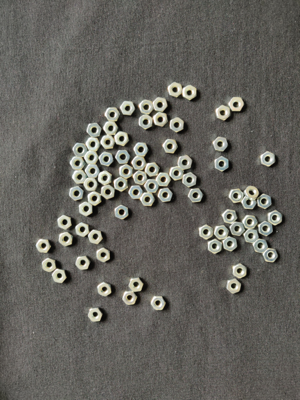nut: (257, 194, 273, 210), (226, 279, 242, 295), (88, 229, 104, 245), (168, 82, 183, 98), (139, 100, 155, 115), (120, 101, 136, 116), (153, 112, 169, 127), (170, 117, 185, 133), (213, 137, 229, 152), (163, 139, 179, 154), (261, 151, 276, 167), (215, 156, 230, 172), (178, 155, 193, 171), (145, 162, 160, 178), (158, 188, 174, 203), (114, 177, 129, 193), (244, 186, 260, 201), (229, 189, 245, 204), (268, 210, 283, 226), (222, 209, 238, 224), (242, 215, 258, 230), (258, 221, 273, 237), (214, 225, 230, 240), (253, 239, 269, 254), (263, 248, 279, 263), (75, 222, 90, 238), (36, 239, 52, 254), (151, 296, 167, 311), (216, 106, 231, 121), (153, 97, 168, 112), (87, 123, 102, 138), (101, 135, 116, 150), (73, 143, 88, 158), (99, 152, 114, 167), (133, 171, 148, 186), (98, 171, 113, 186), (69, 186, 84, 201), (244, 229, 259, 244), (223, 237, 238, 252), (233, 264, 248, 279), (59, 232, 74, 247), (42, 258, 57, 273), (52, 269, 67, 284), (88, 308, 103, 323), (229, 98, 245, 112), (183, 85, 197, 101), (105, 108, 121, 122), (115, 131, 129, 147), (70, 157, 86, 171), (183, 172, 197, 188), (188, 189, 204, 203), (156, 173, 172, 187), (75, 256, 91, 270), (139, 115, 153, 130), (86, 138, 101, 152), (134, 143, 149, 157), (84, 151, 99, 165), (170, 166, 184, 181), (132, 157, 147, 171), (119, 164, 133, 179), (85, 164, 100, 178), (102, 185, 116, 200), (129, 186, 144, 200), (140, 193, 155, 207), (115, 205, 129, 220), (88, 191, 102, 206), (79, 202, 93, 217), (230, 222, 245, 236), (200, 225, 214, 240), (58, 215, 72, 230), (97, 248, 111, 263), (98, 282, 112, 297), (129, 278, 144, 292), (123, 291, 138, 305), (103, 122, 119, 135), (116, 151, 132, 164), (144, 180, 160, 193), (72, 171, 88, 184), (84, 178, 99, 191), (242, 197, 257, 210), (208, 241, 222, 254)
